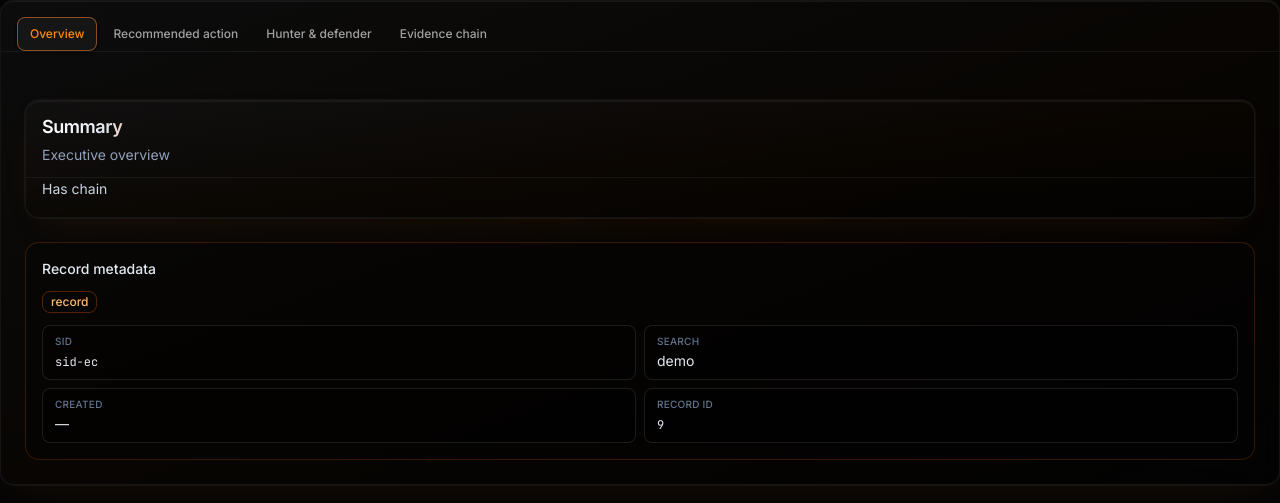
InvestigationTabbedLayout › shows Evidence chain tab when evidence_chain exists
Click the tab "Evidence chain" at (443, 34), box 388,18 -> 499,50
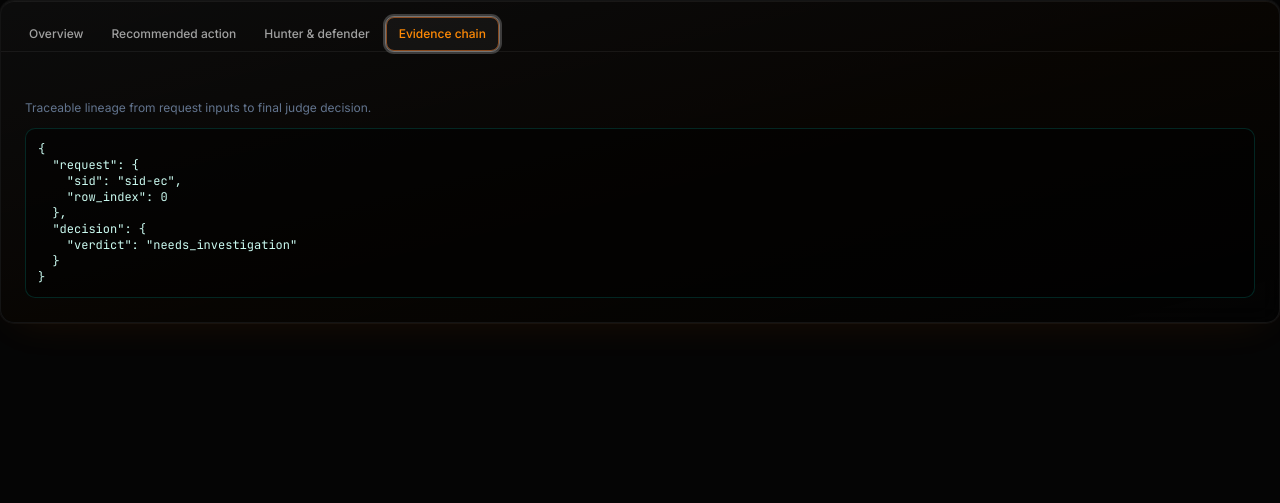
Expected: the element with test id "security-evidence-chain-panel" is shown, 25,100 -> 1255,298
Expected: the button "sid-ec" is shown, 38,141 -> 297,285
